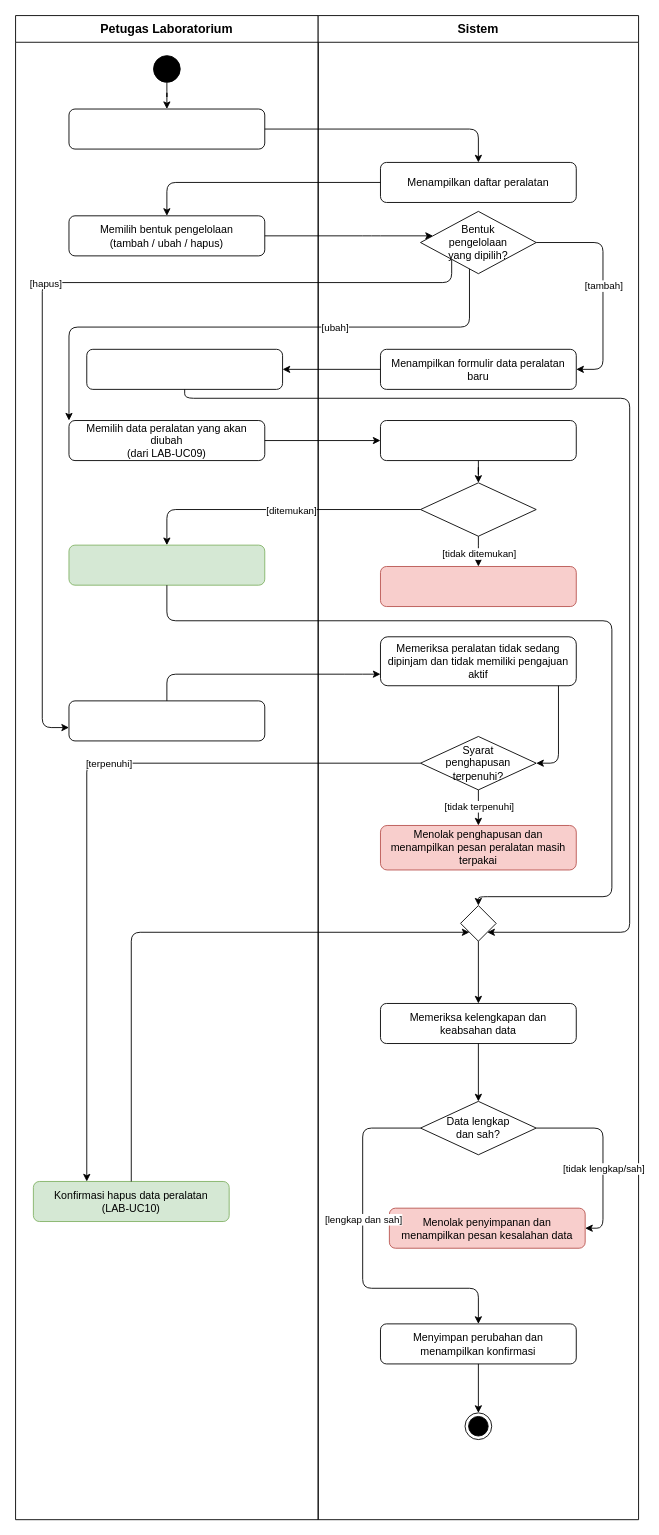
Image size: 659x1535. Some labels were removed from this diagram. Here are the shapes that lost their labels. From the top down, the centre of each, then its label:
the point at 166,128: Membuka fungsi Kelola Data Peralatan
the point at 184,368: Mengisi data peralatan baru (dari LAB-UC08)
the point at 478,440: Menampilkan data peralatan saat ini
the point at 478,509: Data peralatan ditemukan?
the point at 166,564: Mengubah data peralatan (LAB-UC09)
the point at 478,586: Menampilkan pesan data peralatan tidak ditemukan
the point at 166,720: Memilih data peralatan yang akan dihapus (dari LAB-UC10)
